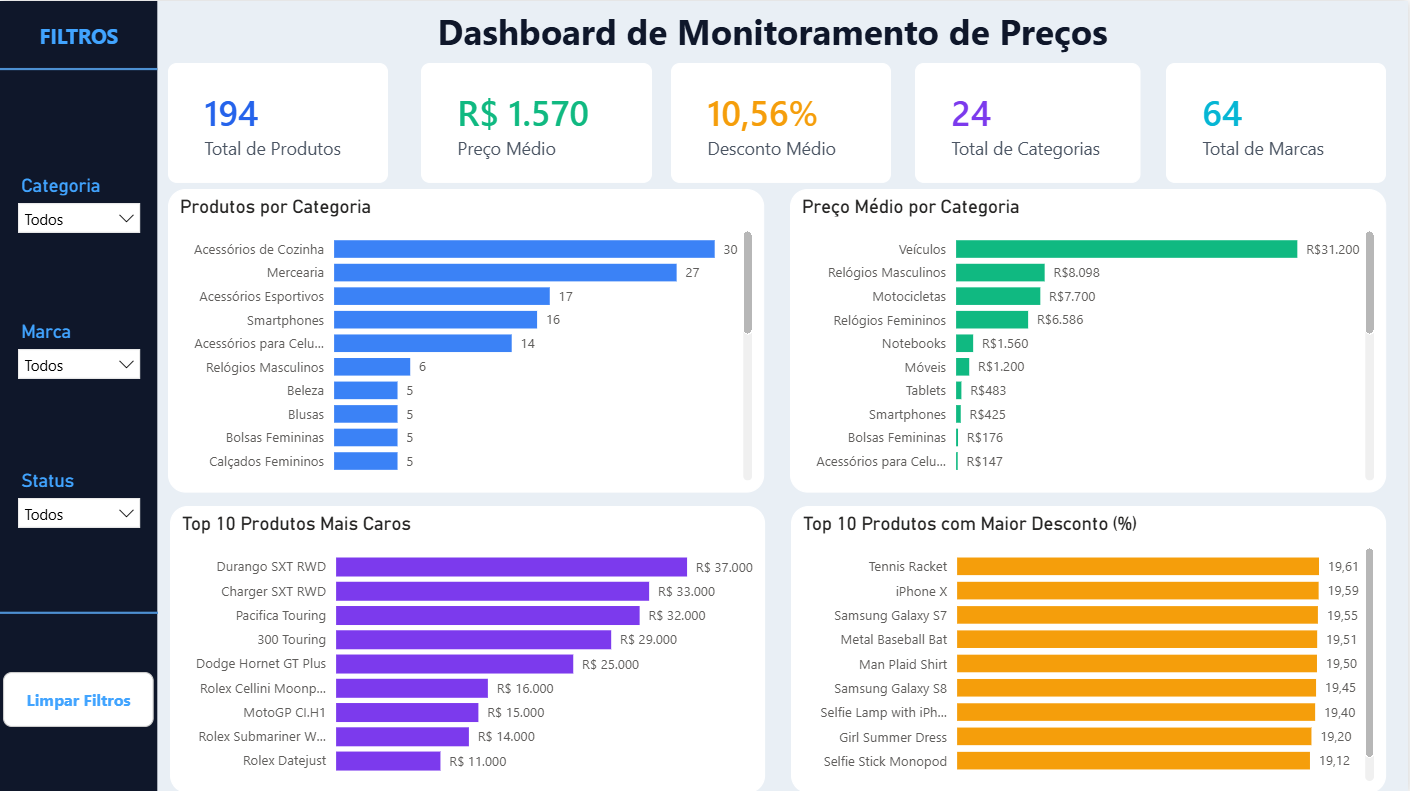

The page's visual inventory and layout, read from the dashboard file:
{"tool":"powerbi","page":{"name":"Página 1","canvas":[1280,720],"ordinal":0},"visuals":[{"type":"shape","box":[0,0,143,720],"z":0},{"type":"cardVisual","fields":{"Data":["Count(public vw_kpis.produto_id)"]},"box":[153,56,200,109],"z":1000},{"type":"cardVisual","fields":{"Data":["public vw_kpis.Preço Médio"]},"box":[383,56,210,109],"z":2000},{"type":"cardVisual","fields":{"Data":["public vw_kpis.Desconto Médio (%)"]},"box":[610,56,200,109],"z":3000},{"type":"cardVisual","fields":{"Data":["Count(public vw_kpis.categoria)"]},"box":[832,56,205,109],"z":4000},{"type":"cardVisual","fields":{"Data":["Count(public vw_kpis.marca)"]},"box":[1060,56,200,109],"z":5000},{"type":"barChart","title":"Produtos por Categoria","fields":{"Category":["public vw_base_produtos.categoria"],"Y":["Count(public vw_base_produtos.produto_id)"]},"box":[153,171,542,276],"z":6000},{"type":"barChart","title":"Preço Médio por Categoria","fields":{"Category":["public vw_base_produtos.categoria"],"Y":["public vw_base_produtos.Média de Preçoq"]},"box":[718,171,542,276],"z":7000},{"type":"clusteredBarChart","title":"Top 10 Produtos Mais Caros","fields":{"Category":["public vw_ranking_produtos.nome_produto"],"Y":["public vw_ranking_produtos.Preço Máximo"]},"box":[154.3,459.3,540.9,260.7],"z":8000},{"type":"slicer","title":"Categoria","fields":{"Values":["public vw_kpis.categoria"]},"box":[6.2,152.5,131.2,70],"z":9000},{"type":"slicer","fields":{"Values":["public vw_base_produtos.marca"]},"box":[6.2,285.5,131.2,70.9],"z":10000},{"type":"clusteredBarChart","title":"Top 10 Produtos com Maior Desconto (%)","fields":{"Category":["public vw_top10_maiores_descontos.nome_produto"],"Y":["Sum(public vw_top10_maiores_descontos.desconto_percentual)"]},"box":[719,459,541,261],"z":11000},{"type":"textbox","box":[393,0,651,58],"z":12000},{"type":"textbox","box":[14,14,116,48],"z":13000},{"type":"slicer","fields":{"Values":["public vw_kpis.status_disponibilidade"]},"box":[6.2,421.2,131.2,70.9],"z":14000},{"type":"shape","box":[0,36,143,51],"z":15000},{"type":"actionButton","box":[2.7,610,137.4,49.7],"z":16000},{"type":"shape","box":[0,531.1,143.6,50.5],"z":17000}]}

Visuals, with their boxes in screenshot pixels (x1, y1, x2, y2), scaled from the page's 1280x720 canvas onto the 1410x791 screenshot:
shape: 0,0,158,790
cardVisual - Count(public vw_kpis.produto_id): 169,62,389,181
cardVisual - public vw_kpis.Preço Médio: 422,62,653,181
cardVisual - public vw_kpis.Desconto Médio (%): 672,62,892,181
cardVisual - Count(public vw_kpis.categoria): 916,62,1142,181
cardVisual - Count(public vw_kpis.marca): 1168,62,1388,181
"Produtos por Categoria" barChart: 169,188,766,491
"Preço Médio por Categoria" barChart: 791,188,1388,491
"Top 10 Produtos Mais Caros" clusteredBarChart: 170,505,766,790
"Categoria" slicer: 7,168,151,244
slicer - public vw_base_produtos.marca: 7,314,151,392
"Top 10 Produtos com Maior Desconto (%)" clusteredBarChart: 792,504,1388,790
textbox: 433,0,1150,64
textbox: 15,15,143,68
slicer - public vw_kpis.status_disponibilidade: 7,463,151,541
shape: 0,40,158,96
actionButton: 3,670,154,725
shape: 0,583,158,639
